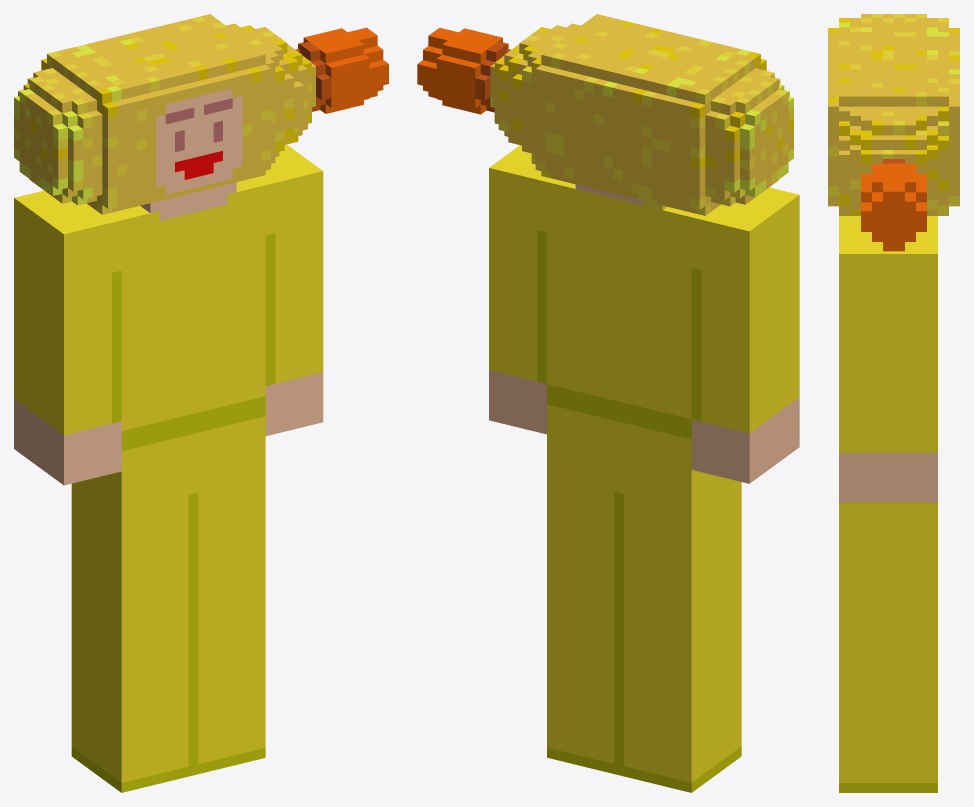
The model's file is ebiman.smail.fbx.
3 renders of one model, left to right at view 1: azimuth 30°, elevation 25°; view 2: azimuth 150°, elevation 25°; view 3: azimuth 270°, elevation 25°, orthographic.
Parts seen in each view (by area): view 1: ObjObject; view 2: ObjObject; view 3: ObjObject.
Boxes of the visible parts, x1,y1,x2,y2 form: ObjObject: (14, 14, 388, 792); ObjObject: (417, 14, 799, 792); ObjObject: (828, 14, 959, 792).
Size of the model in its own units: 350 by 700 by 120.
